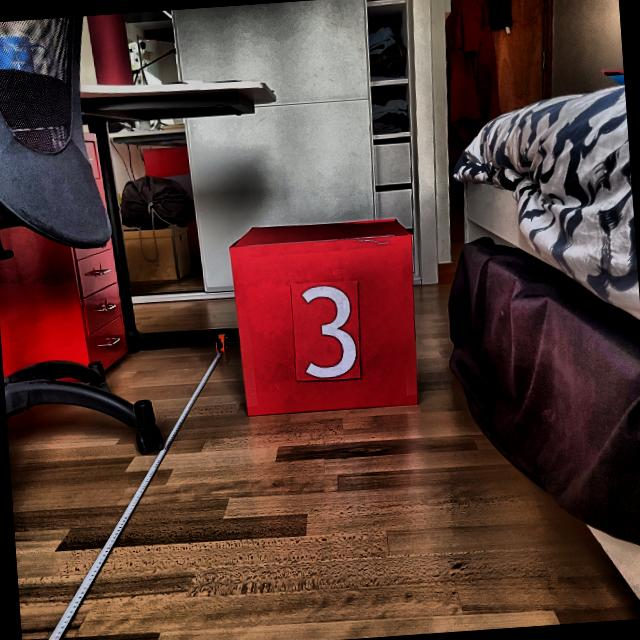red box: (224, 214, 423, 418)
three: (298, 282, 359, 382)
